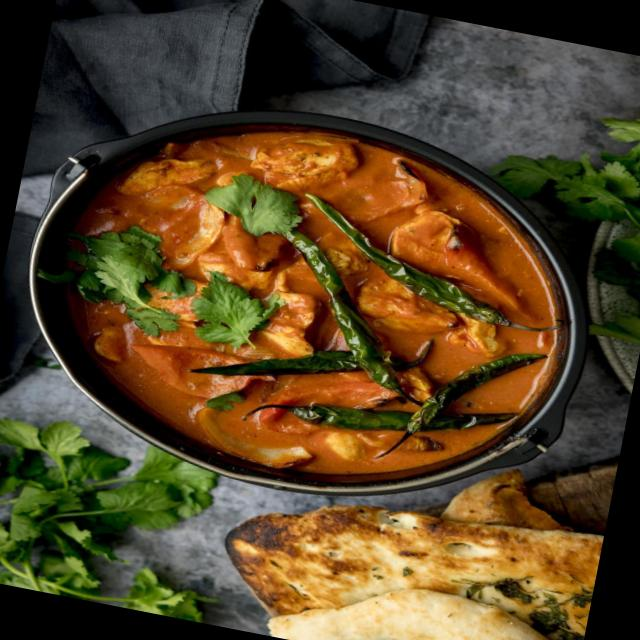chicken: (22, 108, 566, 479)
roti: (253, 450, 600, 640)
